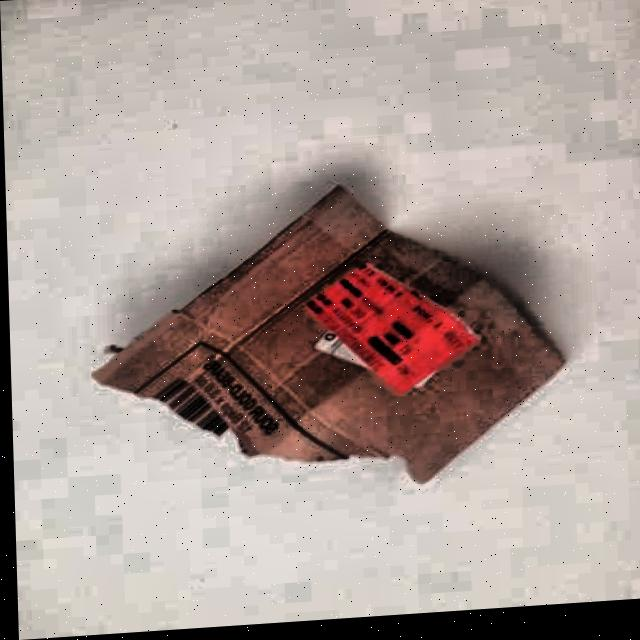cardboard: (88, 169, 573, 506)
